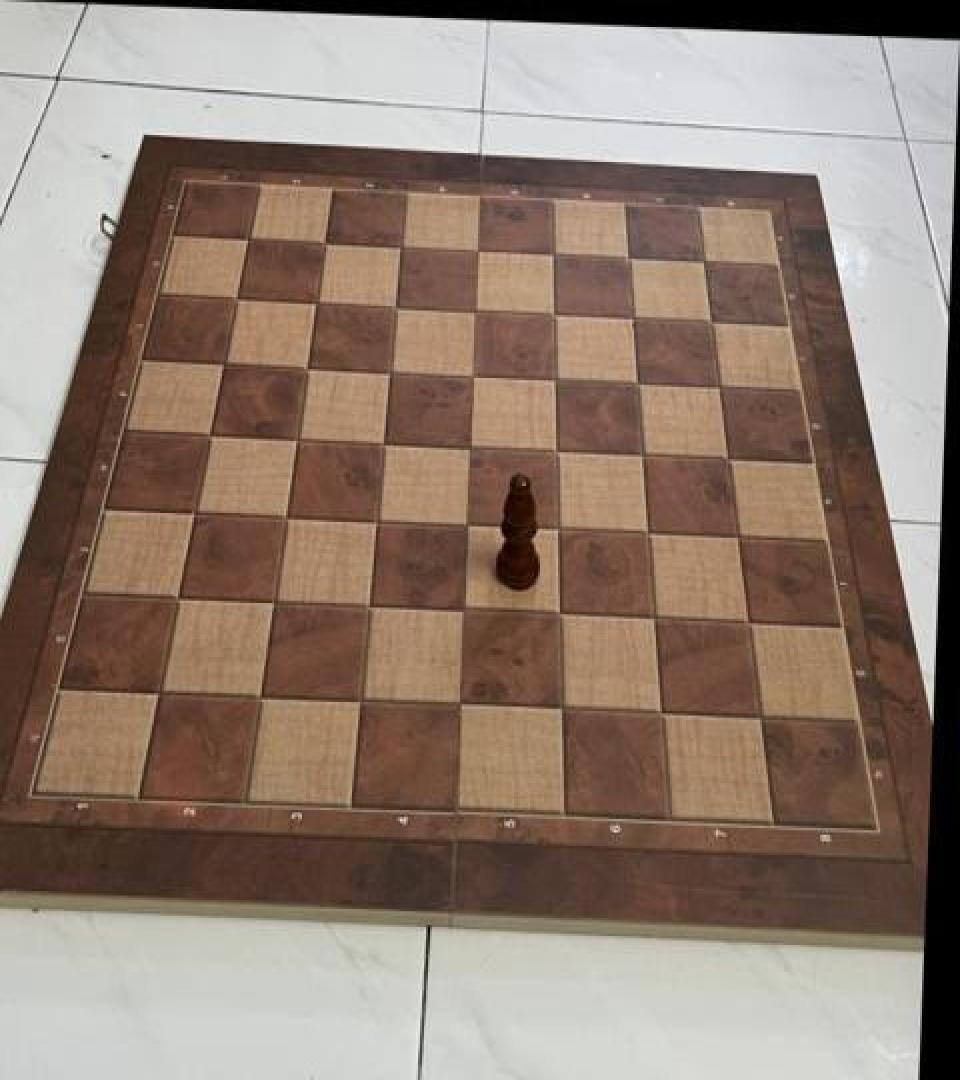xcorner: (686, 244, 722, 285), (534, 236, 570, 277), (382, 228, 418, 269), (614, 300, 650, 341), (376, 289, 412, 330), (217, 281, 253, 322), (536, 361, 572, 402), (371, 354, 407, 395), (364, 425, 400, 466), (190, 417, 226, 458), (628, 514, 664, 555), (448, 506, 484, 547), (266, 498, 302, 539), (540, 595, 576, 636), (350, 587, 386, 628), (159, 579, 195, 620), (739, 696, 775, 737), (442, 685, 478, 726), (241, 677, 277, 718), (610, 240, 646, 280), (458, 233, 494, 273), (305, 225, 341, 265), (228, 222, 264, 262), (693, 304, 729, 344), (535, 296, 571, 336), (456, 293, 492, 333), (297, 285, 333, 325), (701, 369, 737, 409), (619, 366, 655, 406), (454, 358, 490, 398), (287, 350, 323, 390), (204, 347, 240, 387), (709, 440, 745, 480), (623, 437, 659, 477), (537, 432, 573, 472), (451, 429, 487, 469), (277, 421, 313, 461), (718, 518, 754, 558), (538, 510, 574, 550), (357, 502, 393, 542), (175, 494, 211, 534), (728, 603, 764, 643), (634, 599, 670, 639), (445, 591, 481, 631), (254, 583, 290, 623), (640, 693, 676, 733), (541, 689, 577, 729), (342, 681, 378, 721), (140, 673, 176, 713)
